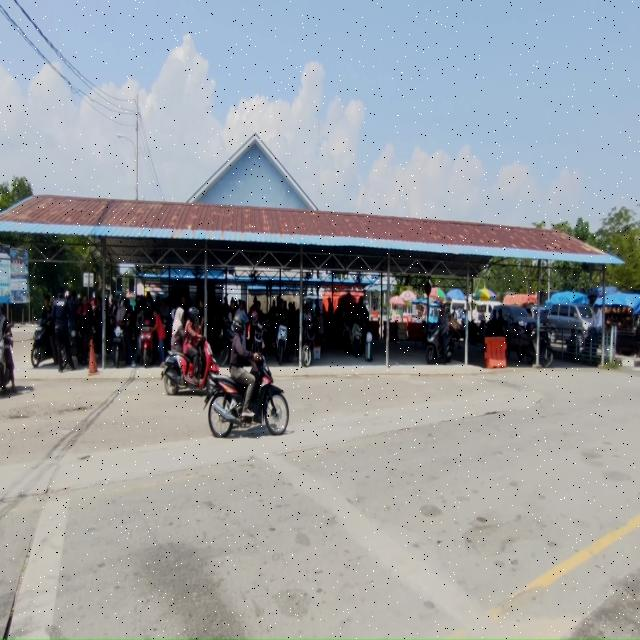Golongan II: (205, 356, 289, 438), (161, 340, 219, 395), (518, 328, 554, 368), (31, 319, 58, 368), (426, 323, 453, 364), (0, 324, 13, 392), (218, 318, 233, 367), (69, 322, 86, 365), (302, 320, 317, 367), (111, 321, 126, 368), (140, 319, 153, 368), (251, 320, 268, 354), (338, 316, 354, 352), (463, 321, 485, 345), (276, 324, 288, 365), (349, 321, 362, 357)
